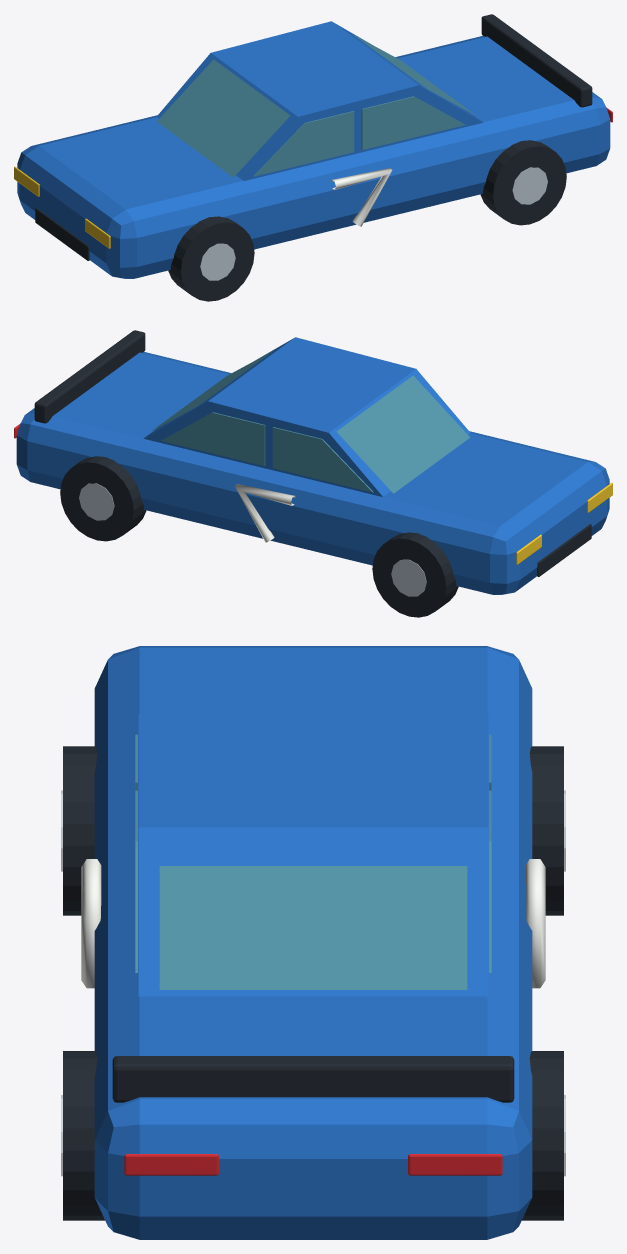
The model's file is nascar_racing.glb.
3 views of the same model, one above another, from view 1: azimuth 30°, elevation 25°; view 2: azimuth 150°, elevation 25°; view 3: azimuth 270°, elevation 25° (orthographic). The views are drawn at different scales.
Visible parts, largest first — view 1: nascar_racing; view 2: nascar_racing; view 3: nascar_racing.
Part boxes in pixels (<box>): nascar_racing: <box>14,14,612,301</box>; nascar_racing: <box>14,330,612,617</box>; nascar_racing: <box>61,646,565,1239</box>.
Size of the model in its own units: 4.93 by 1.38 by 2.13.
